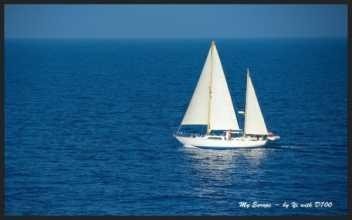fanchuan: (169, 41, 275, 157)
